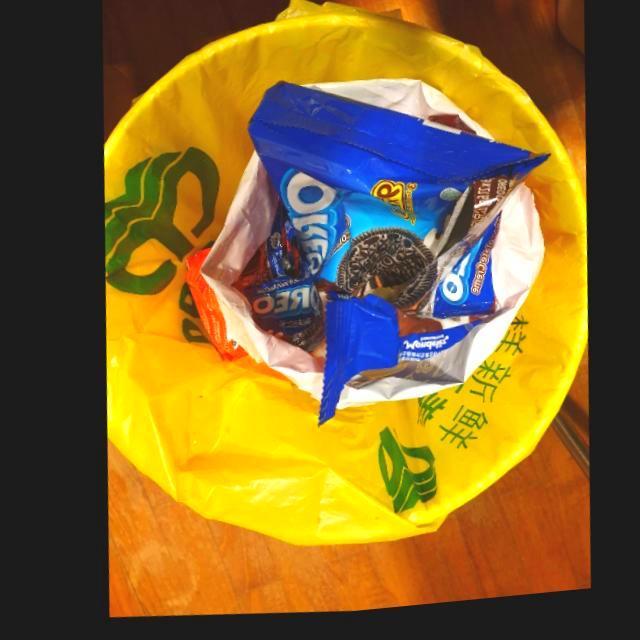food_wrapper: (244, 85, 527, 304), (310, 296, 486, 432), (386, 183, 515, 327), (233, 272, 318, 358)
